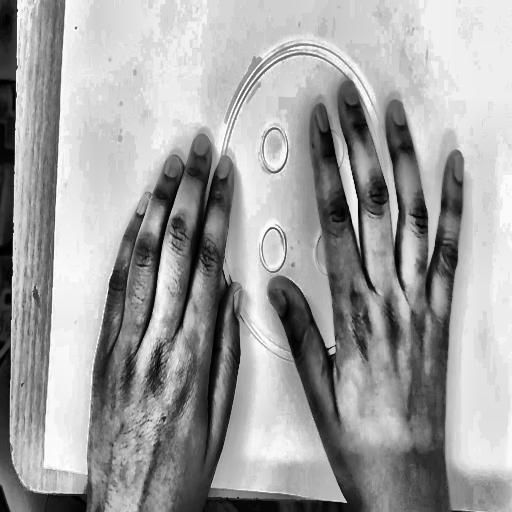bottom_left: (39, 454, 50, 473)
button: (199, 27, 419, 392)
